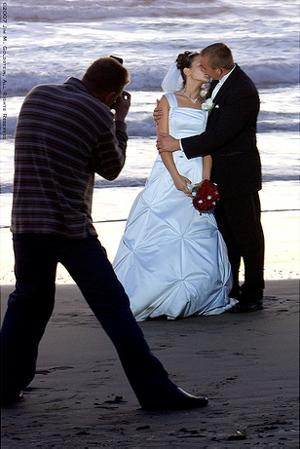person: (1, 55, 211, 419)
